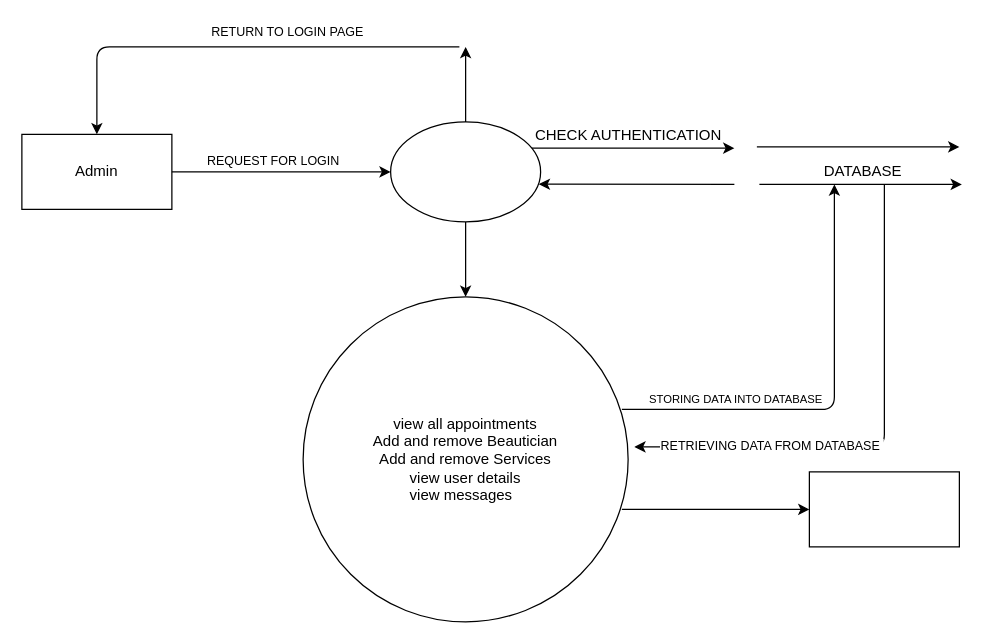
Some shapes in this 994 by 644 pixel diagram are drawn without their labels. Each missing label, with the centre of its shape:
"LOGIN CHECK" belongs at point 465,171.
"SIGNOUT" belongs at point 883,509.
